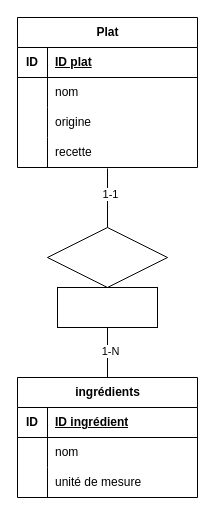
Image size: 215x515. Some labels were removed from this diagram. Here are the shapes that lost their labels. From the top down, the box of each, then its label:
(46, 226, 168, 288): compose
(56, 286, 158, 328): quantité
